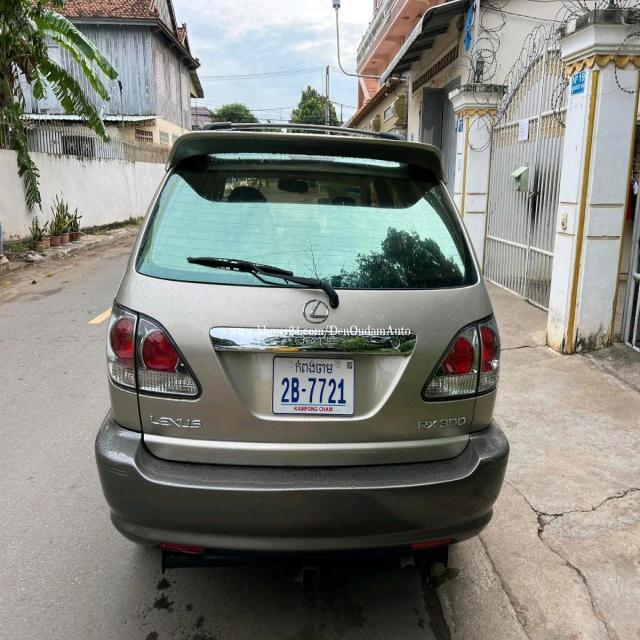Kampong_Cham: (296, 360, 334, 373)
